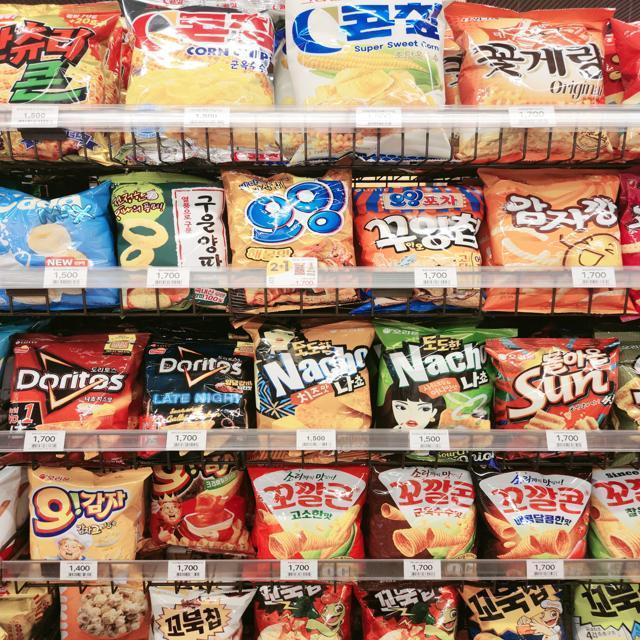product: (284, 1, 454, 165), (452, 9, 616, 163), (126, 1, 278, 161), (476, 166, 629, 322), (239, 319, 382, 465), (371, 317, 506, 471), (221, 167, 359, 311), (349, 178, 483, 313), (487, 333, 617, 461), (109, 179, 233, 309), (247, 457, 374, 582), (14, 333, 131, 465), (135, 329, 251, 461), (25, 463, 145, 588), (108, 178, 222, 299), (476, 463, 591, 581), (371, 462, 481, 581), (5, 5, 120, 118), (4, 194, 110, 281), (463, 581, 570, 640), (355, 581, 462, 639), (263, 584, 352, 640), (153, 592, 250, 640), (598, 468, 640, 575), (574, 581, 640, 640)
